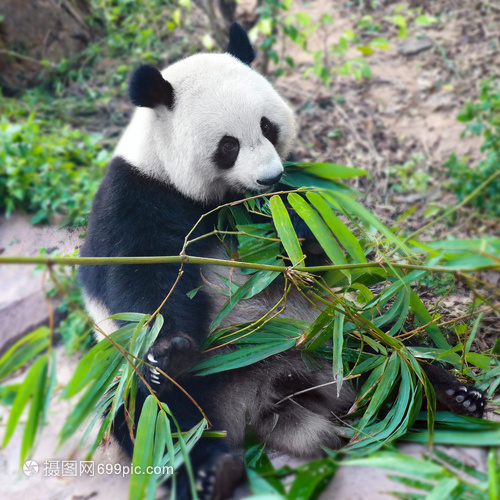panda: (60, 32, 469, 473)
